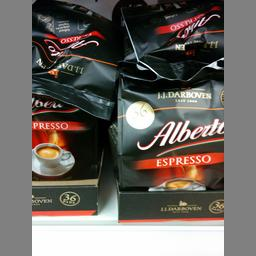coffee: (114, 23, 222, 191), (30, 84, 100, 182)
